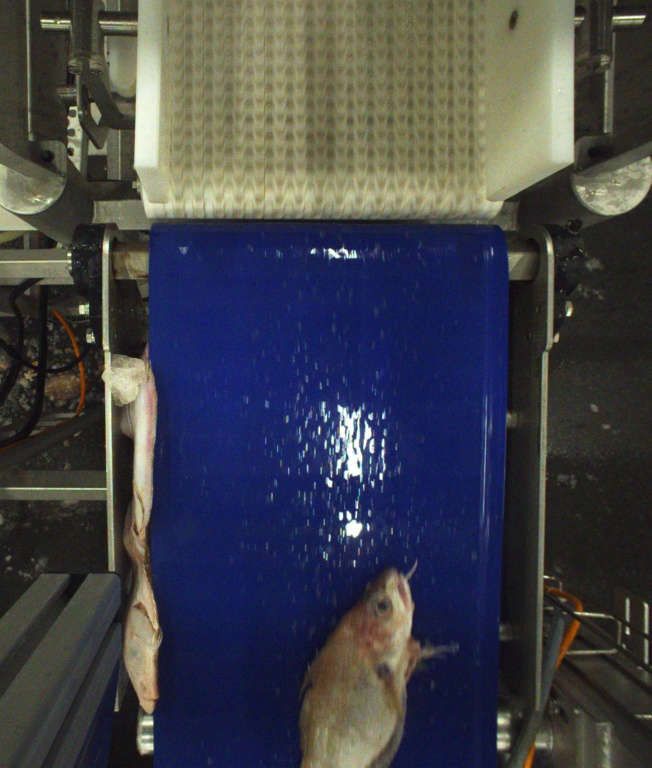BIB: (293, 565, 449, 768)
